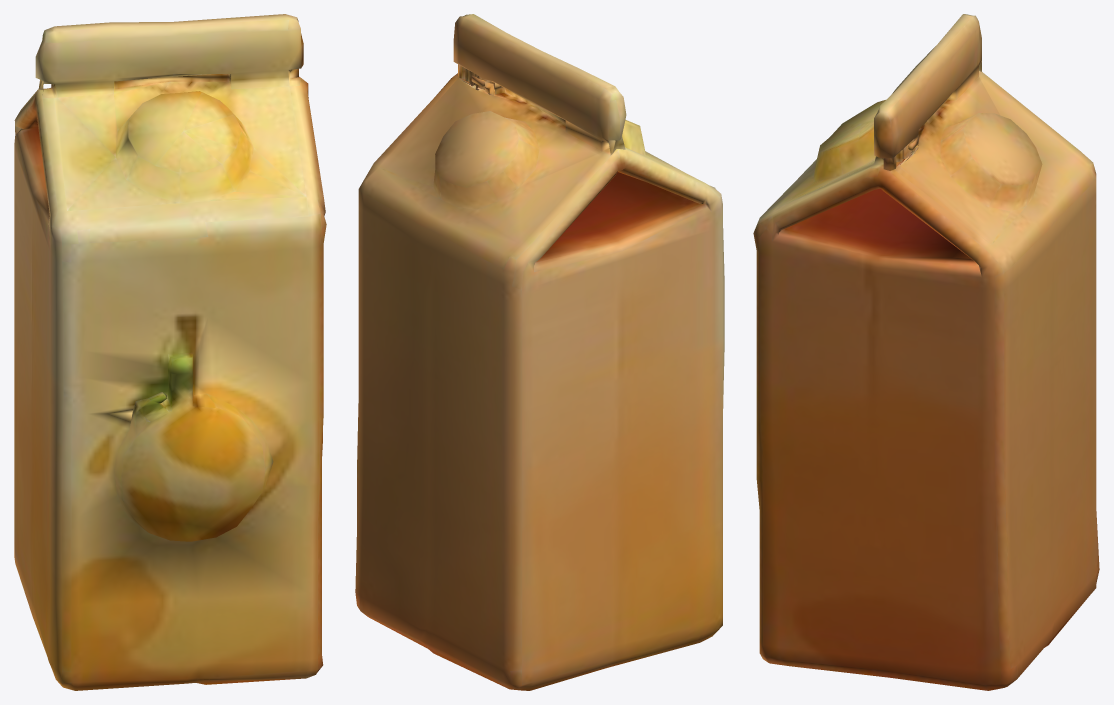
The model's file is orange-juice.glb.
3 renders of one model, left to right at view 1: azimuth 30°, elevation 25°; view 2: azimuth 150°, elevation 25°; view 3: azimuth 270°, elevation 25°, orthographic. The views are drawn at different scales.
Parts seen in each view (by area): view 1: Orange Juice; view 2: Orange Juice; view 3: Orange Juice.
Boxes of the visible parts, x1=… form: Orange Juice: x1=14, y1=14, x2=326, y2=690; Orange Juice: x1=355, y1=14, x2=724, y2=690; Orange Juice: x1=753, y1=14, x2=1099, y2=690.
Size of the model in its own units: 1.47 by 2.82 by 1.53.
1 material, 1 textured.
